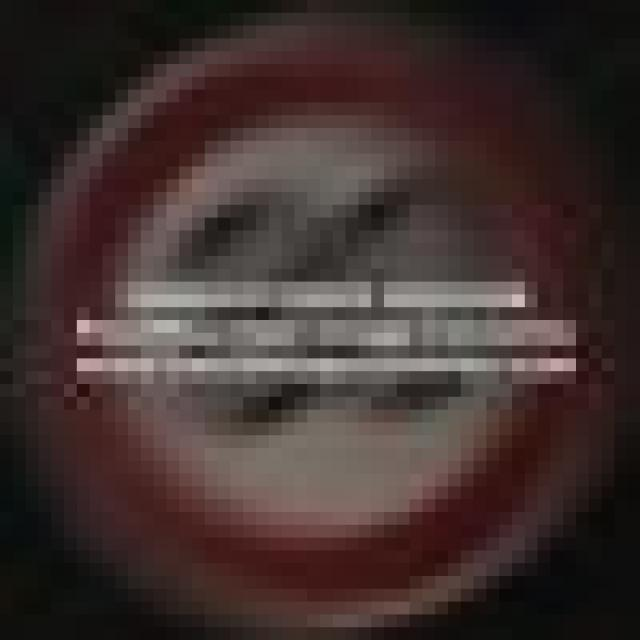SPEED_LIMIT_80: (13, 38, 589, 628)
